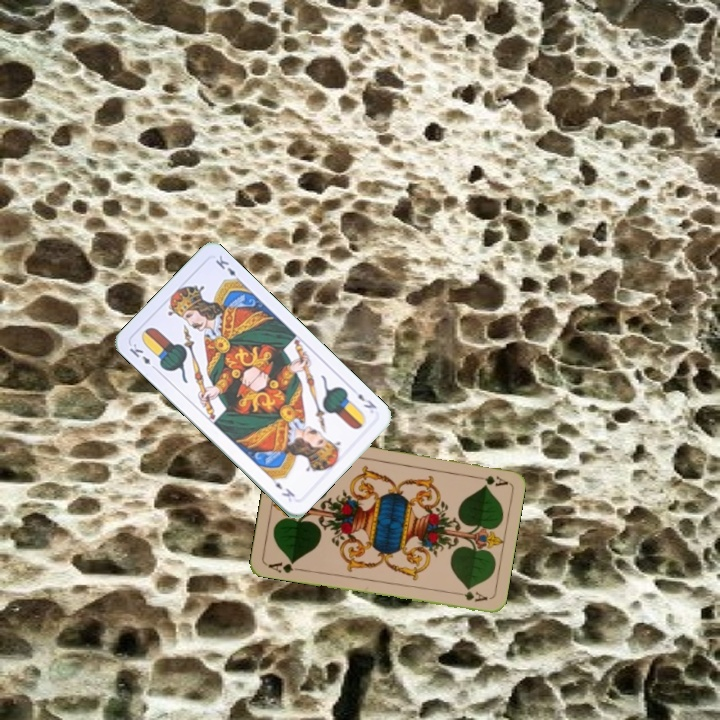EK: (125, 339, 160, 373), (354, 389, 379, 411)
GA: (264, 557, 304, 576), (470, 472, 510, 489)
